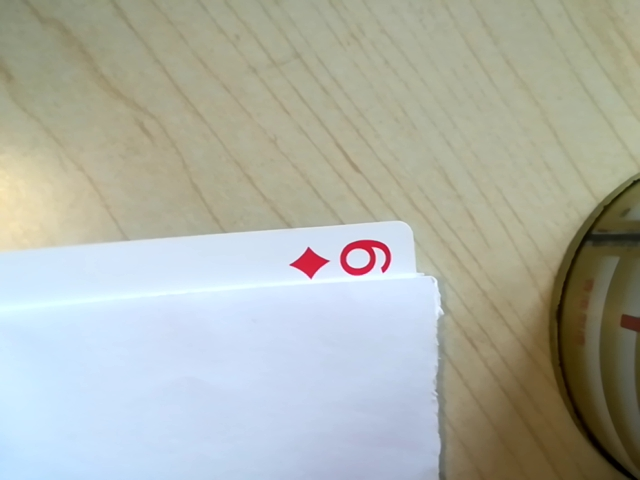fk 6: (300, 235, 402, 285)
